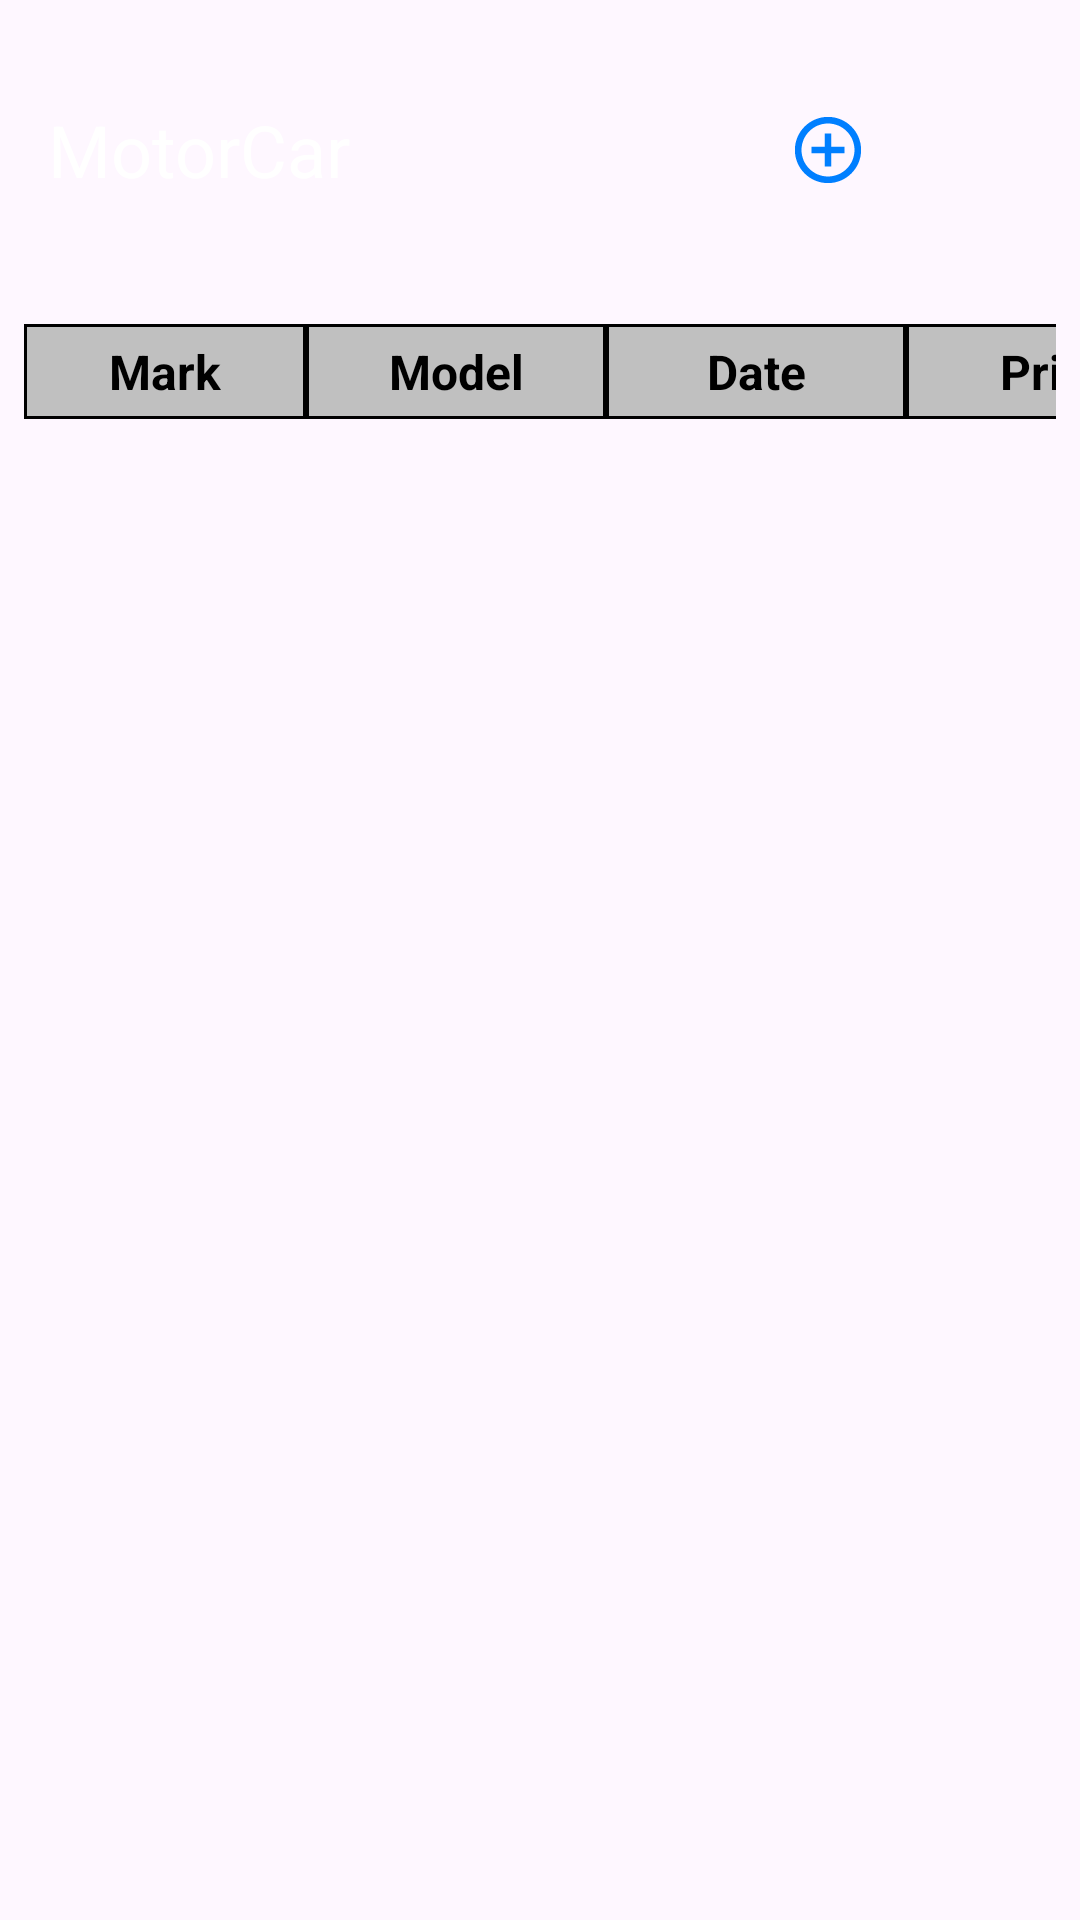

Where icons sit on this 1080×1920 app screen, as (x1, y1, x2, y2):
add car: (795, 117, 861, 183)
